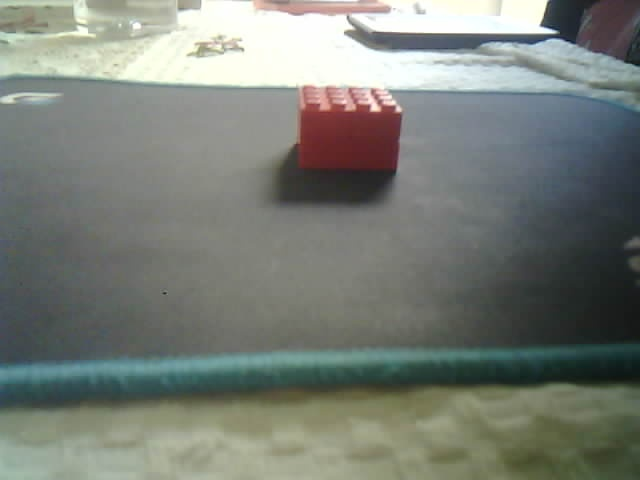lego: (296, 85, 403, 173)
